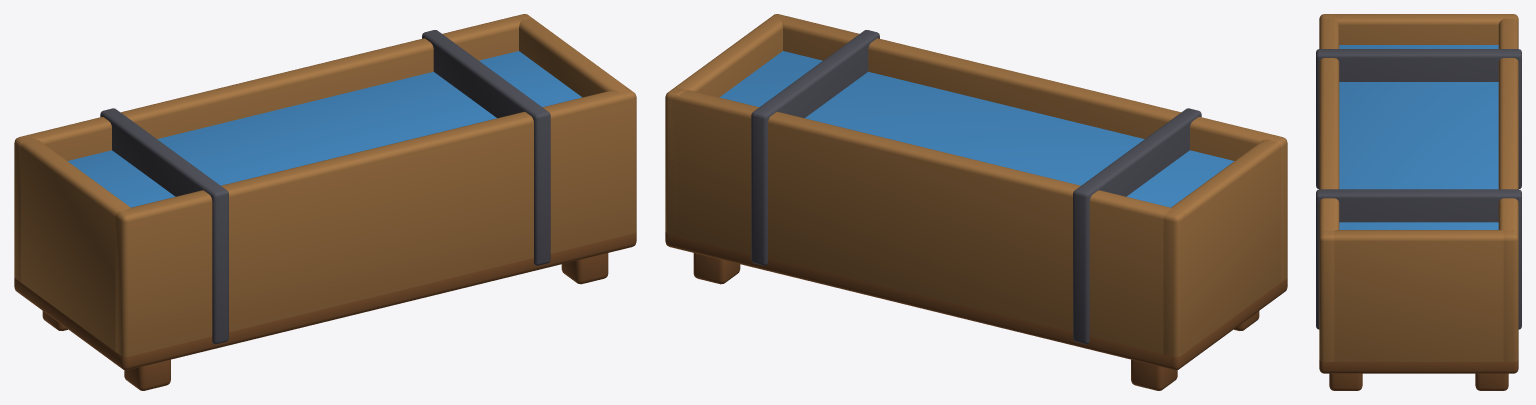
File: water_trough.glb
3 views of the same model, side by side, from view 1: azimuth 30°, elevation 25°; view 2: azimuth 150°, elevation 25°; view 3: azimuth 270°, elevation 25° (orthographic). The views are drawn at different scales.
Parts seen in each view (by area): view 1: water_trough; view 2: water_trough; view 3: water_trough.
Boxes of the visible parts, <box> form: water_trough: <box>14,14,636,390</box>; water_trough: <box>665,14,1287,390</box>; water_trough: <box>1316,14,1521,390</box>.
Size of the model in its own units: 1.6 by 0.56 by 0.62.
